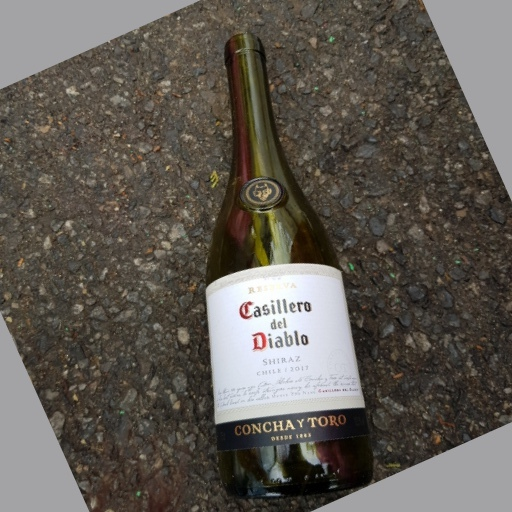Glass_2: (208, 29, 374, 504)
